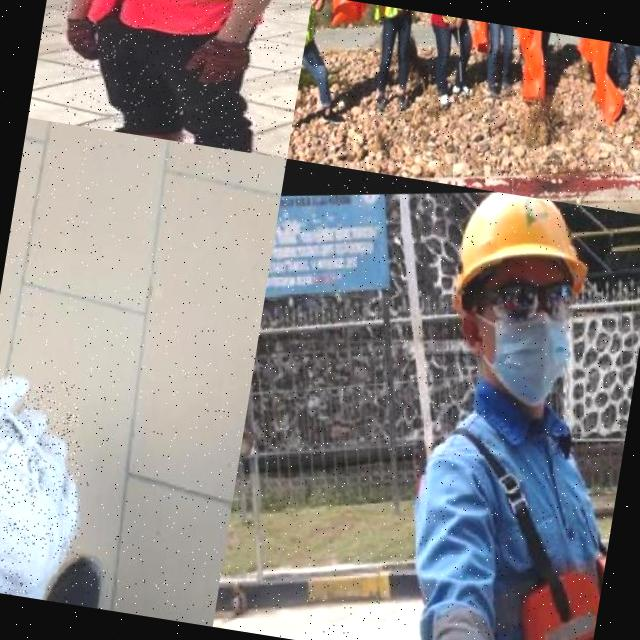boots: (20, 545, 125, 612)
helmet: (431, 184, 602, 328)
vest: (379, 367, 631, 640), (56, 0, 268, 63), (372, 4, 407, 26)
